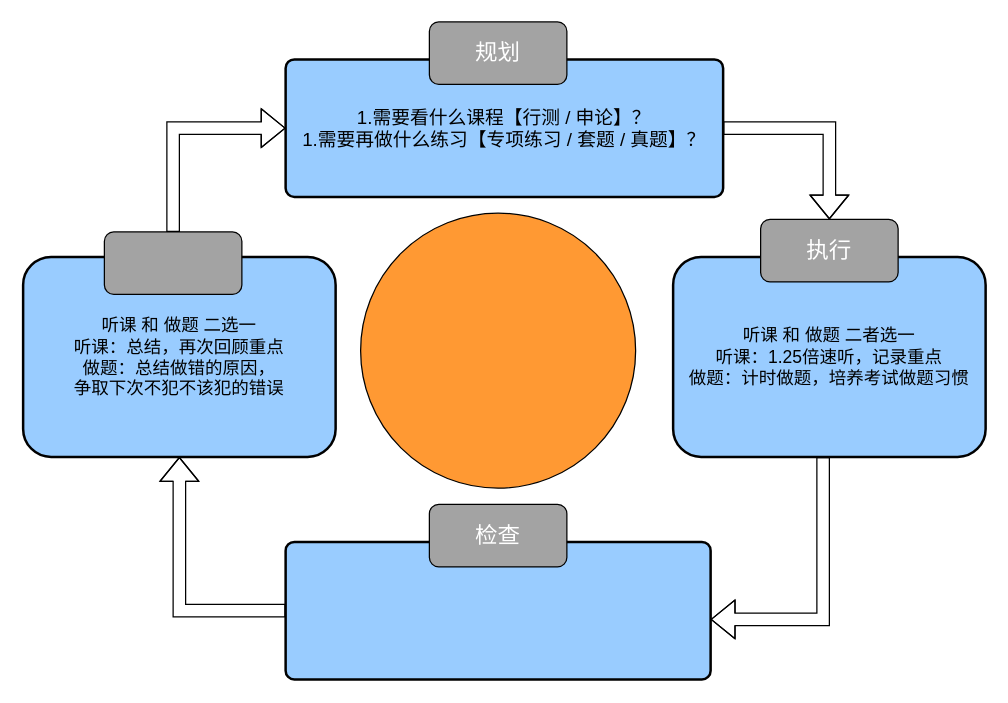
Image size: 1008x703. Some labels were removed from this diagram. Here are the shapes that lost their labels. From the top down, the centre of each, then its label:
At [172,262]: "改善".
At [497,350]: "上岸".
At [497,610]: "听课 和 做题 二者选一 听课：总结，回顾重点。 做题：对答案，看解析。 套卷按类型归纳错题所占数量".
